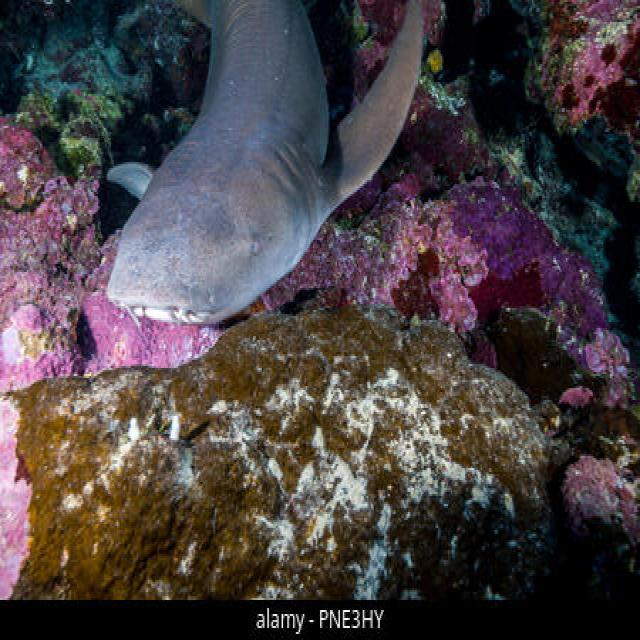Shark: (77, 0, 448, 330)
